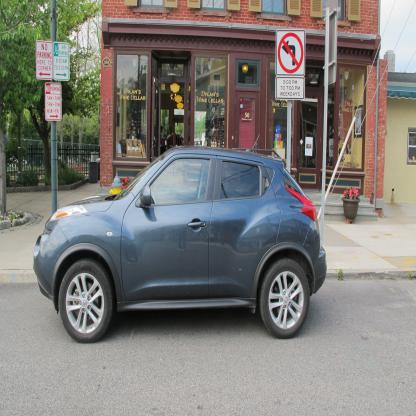Vehicle: (29, 144, 327, 344)
